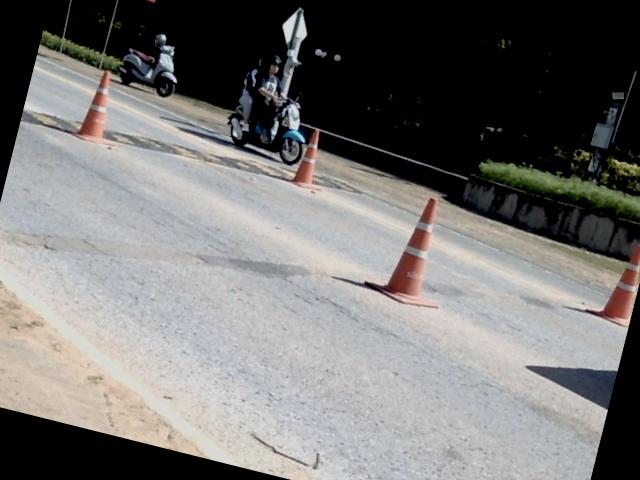helmet: (262, 54, 282, 77), (153, 35, 165, 48)
motor: (227, 96, 305, 163), (117, 45, 176, 97)
person: (249, 54, 283, 127), (238, 57, 263, 121)
